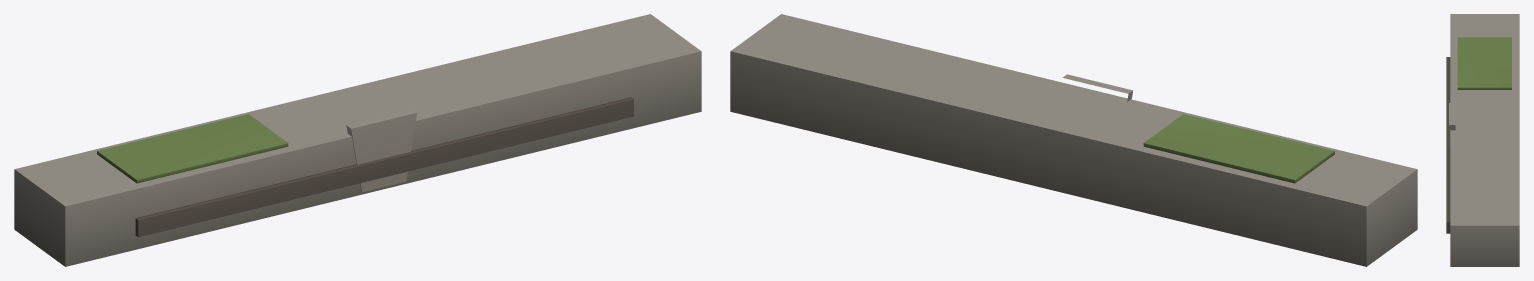
Rendered from ruins-lintel-low.glb.
3 renders of one model, left to right at view 1: azimuth 30°, elevation 25°; view 2: azimuth 150°, elevation 25°; view 3: azimuth 270°, elevation 25°, orthographic. The views are drawn at different scales.
Parts seen in each view (by area): view 1: 0_ruins_lintel; view 2: 0_ruins_lintel; view 3: 0_ruins_lintel.
Part boxes in pixels (<box>): 0_ruins_lintel: <box>14,14,701,266</box>; 0_ruins_lintel: <box>730,14,1417,266</box>; 0_ruins_lintel: <box>1446,14,1519,266</box>.
Bounding box in the file's own units: 4.62 × 0.48 × 0.675.
